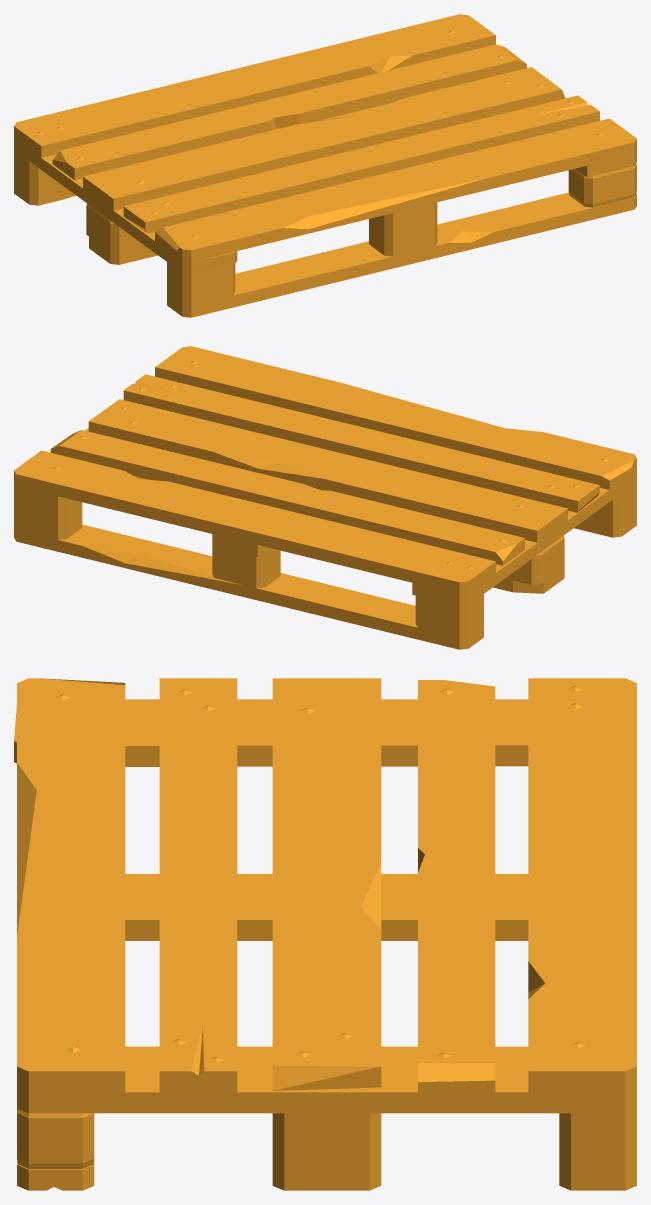
Rendered from SM_Palette_Euro.fbx.
3 renders of one model, top to bottom at view 1: azimuth 30°, elevation 25°; view 2: azimuth 150°, elevation 25°; view 3: azimuth 270°, elevation 25°, orthographic. The views are drawn at different scales.
Parts seen in each view (by area): view 1: palette-euro; view 2: palette-euro; view 3: palette-euro.
Part boxes in pixels (left/top/right/bottom): palette-euro: left=14, top=14, right=636, bottom=317; palette-euro: left=14, top=346, right=636, bottom=649; palette-euro: left=14, top=678, right=636, bottom=1190.
Bounding box in the file's own units: 1.2 × 0.1747 × 0.8038.
